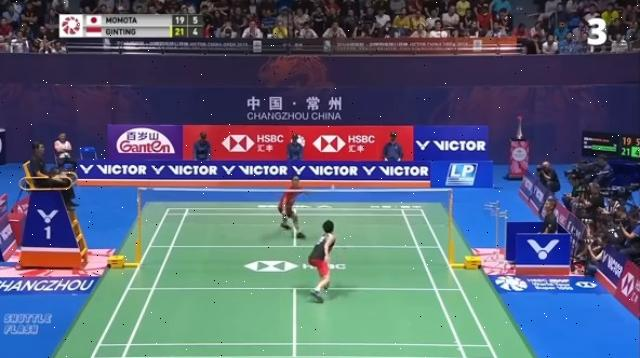Shuttlecock: (327, 183, 339, 195)
